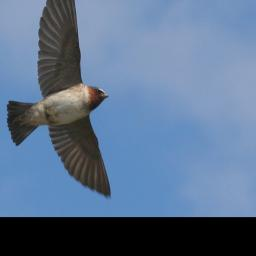Swallow: (5, 0, 112, 198)
